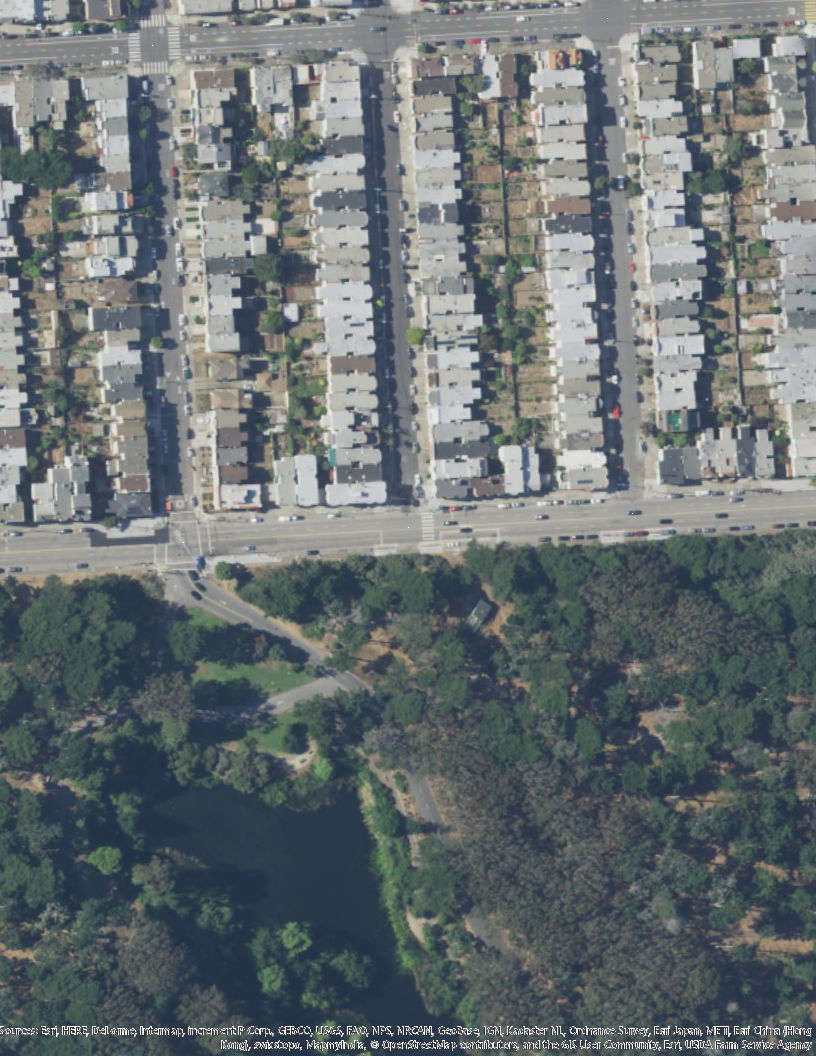zebracross: (419, 509, 437, 546), (133, 10, 169, 28), (166, 25, 181, 61), (140, 59, 169, 76), (127, 31, 140, 65), (806, 1, 815, 24)
